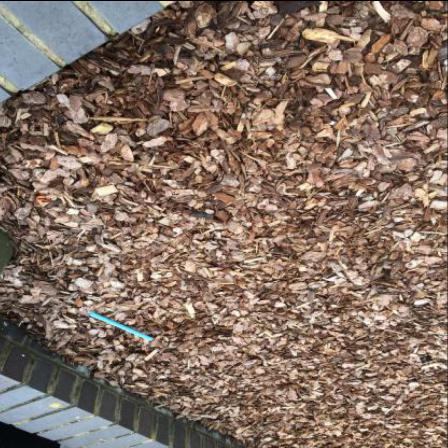Bottle cap: (421, 356, 435, 364), (409, 380, 420, 386)
Straw: (91, 312, 155, 342)
